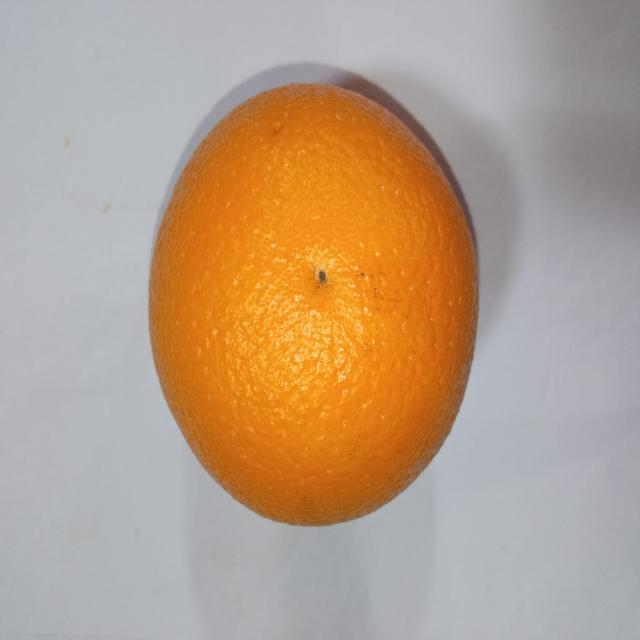fresh_orange: (148, 82, 476, 528)
